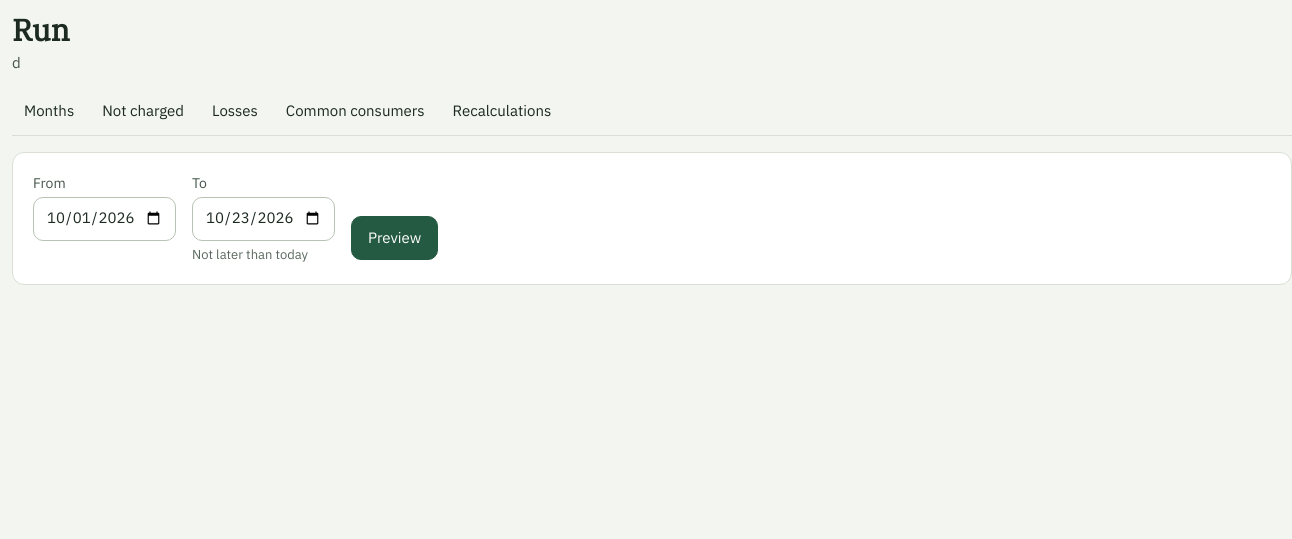
Test case: RunRangePage › does not offer to book a preview without any line
Click the button "Preview": [395, 238] box [351,216,438,260]
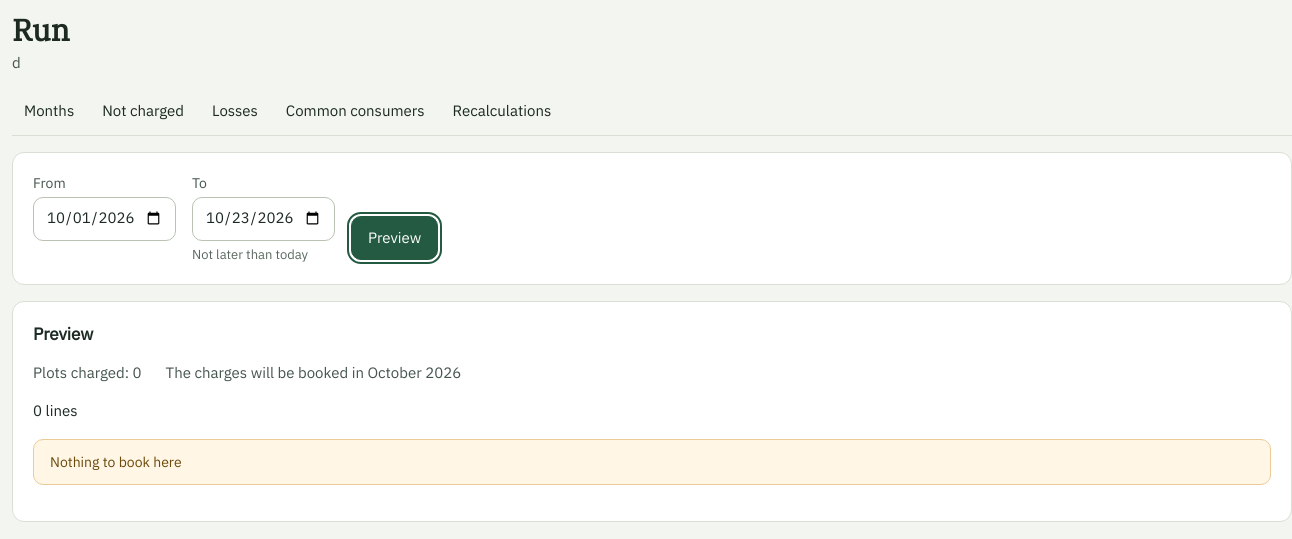
Now the text "Nothing to book here" is shown, box [33,438,1271,484]
